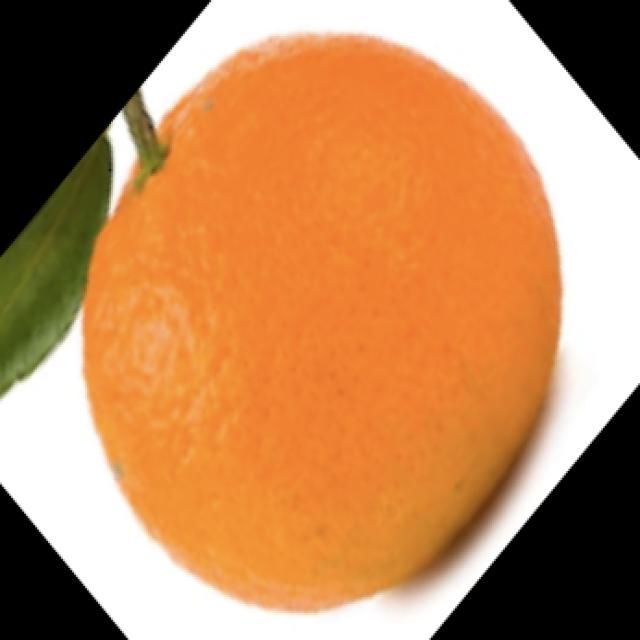Orange: (80, 30, 563, 613)
